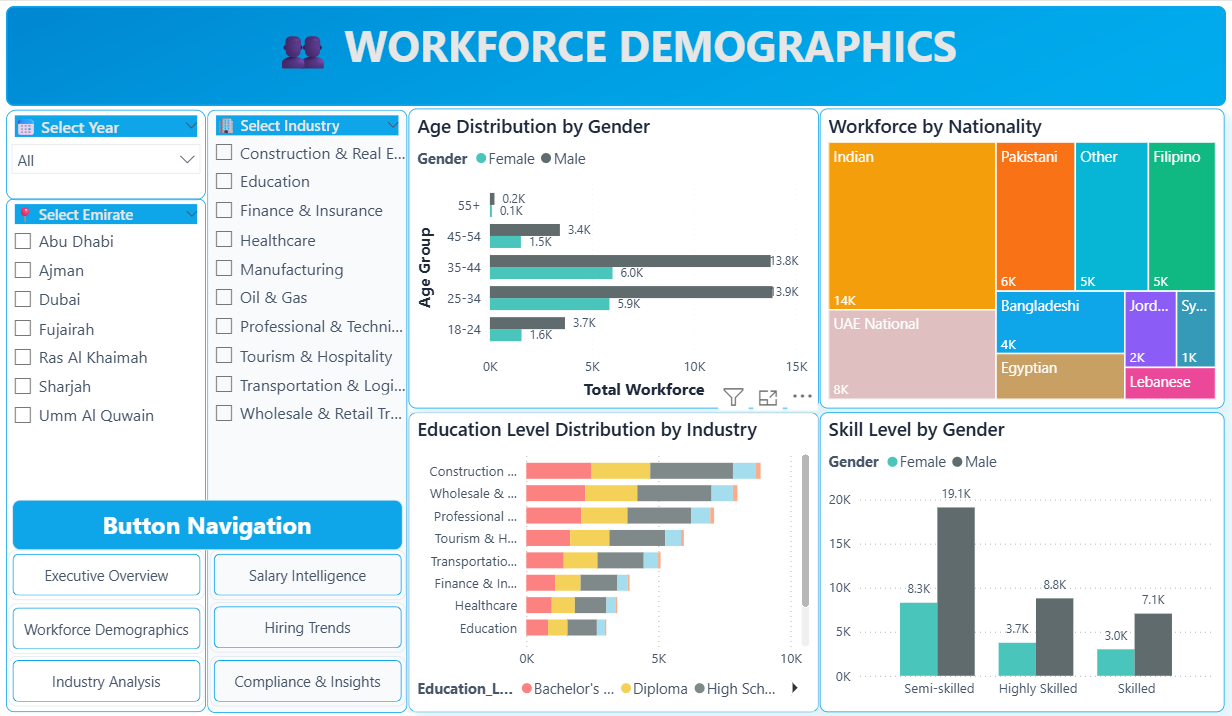

The page's visual inventory and layout, read from the dashboard file:
{"tool":"powerbi","page":{"name":"Workforce Demographics","canvas":[1280,720],"ordinal":1},"visuals":[{"type":"image","box":[30,4.8,1220,100.1],"z":0,"group":"g1"},{"type":"slicer","fields":{"Values":["Date.Year"]},"box":[30,108.8,200,90],"z":0},{"type":"textbox","box":[30,4.8,1220,100.1],"z":1000,"group":"g1"},{"type":"slicer","fields":{"Values":["workforce_data.Emirate"]},"box":[30,197.9,200,513.9],"z":1000},{"type":"slicer","fields":{"Values":["workforce_data.Industry"]},"box":[231.4,108.6,200.3,603],"z":2000},{"type":"clusteredBarChart","title":"Age Distribution by Gender","fields":{"Category":["workforce_data.Age Group"],"Y":["All Measures.Total Workforce"],"Series":["workforce_data.Gender"]},"box":[433,108,410,300],"z":3000},{"type":"treemap","title":"Workforce by Nationality","fields":{"Group":["workforce_data.Nationality"],"Values":["All Measures.Total Workforce"]},"box":[844.3,108,405,300],"z":4000},{"type":"barChart","title":"Education Level Distribution by Industry","fields":{"Category":["workforce_data.Industry"],"Y":["All Measures.Total Workforce"],"Series":["workforce_data.Education_Level"]},"box":[432.2,411.4,410.2,300],"z":5000},{"type":"clusteredColumnChart","title":"Skill Level by Gender","fields":{"Category":["workforce_data.Skill_Level"],"Y":["All Measures.Total Workforce"],"Series":["workforce_data.Gender"]},"box":[844.3,411.4,405,300],"z":6000},{"type":"group","id":"g1","title":"Group 1","box":[30,4.8,1220,100.1],"z":7000},{"type":"actionButton","box":[32,548.8,196,50],"z":7001},{"type":"actionButton","box":[32,601.9,196,50],"z":7002},{"type":"actionButton","box":[32,655,196,50],"z":7003},{"type":"actionButton","box":[234,548.3,196,50],"z":7004},{"type":"actionButton","box":[234,601.6,196,50],"z":7005},{"type":"actionButton","box":[234,655,196,50],"z":7006},{"type":"textbox","box":[36,498.8,390,50],"z":7007}]}

Visuals, with their boxes on the page's 1280x720 design canvas (x1, y1, x2, y2). These are canvas units, not pixel positions in the 1232x716 screenshot, which may show the page scaled, cropped or inside an application window:
image: select_region(30, 5, 1250, 105)
slicer - Date.Year: select_region(30, 109, 230, 199)
textbox: select_region(30, 5, 1250, 105)
slicer - workforce_data.Emirate: select_region(30, 198, 230, 712)
slicer - workforce_data.Industry: select_region(231, 109, 432, 712)
"Age Distribution by Gender" clusteredBarChart: select_region(433, 108, 843, 408)
"Workforce by Nationality" treemap: select_region(844, 108, 1249, 408)
"Education Level Distribution by Industry" barChart: select_region(432, 411, 842, 711)
"Skill Level by Gender" clusteredColumnChart: select_region(844, 411, 1249, 711)
"Group 1" group: select_region(30, 5, 1250, 105)
actionButton: select_region(32, 549, 228, 599)
actionButton: select_region(32, 602, 228, 652)
actionButton: select_region(32, 655, 228, 705)
actionButton: select_region(234, 548, 430, 598)
actionButton: select_region(234, 602, 430, 652)
actionButton: select_region(234, 655, 430, 705)
textbox: select_region(36, 499, 426, 549)
